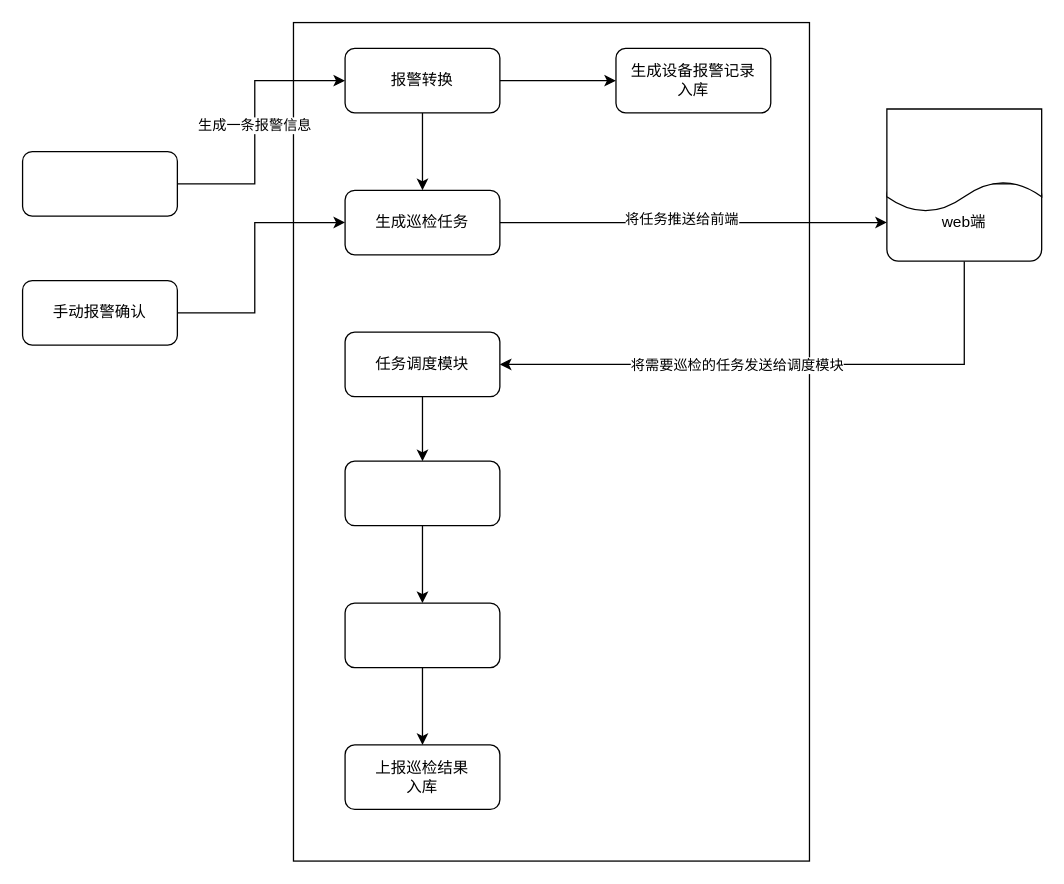
Some shapes in this 1064 by 884 pixel diagram are drawn without their labels. Here are the shapes that lost their labels. From the top down, the centre of each, then its label:
At pixel 964 160: "前端收到应急任务之后进行弹框展示".
At pixel 99 183: "第三方平台".
At pixel 422 493: "生成任务执行记录".
At pixel 422 635: "机器人进行巡检".
